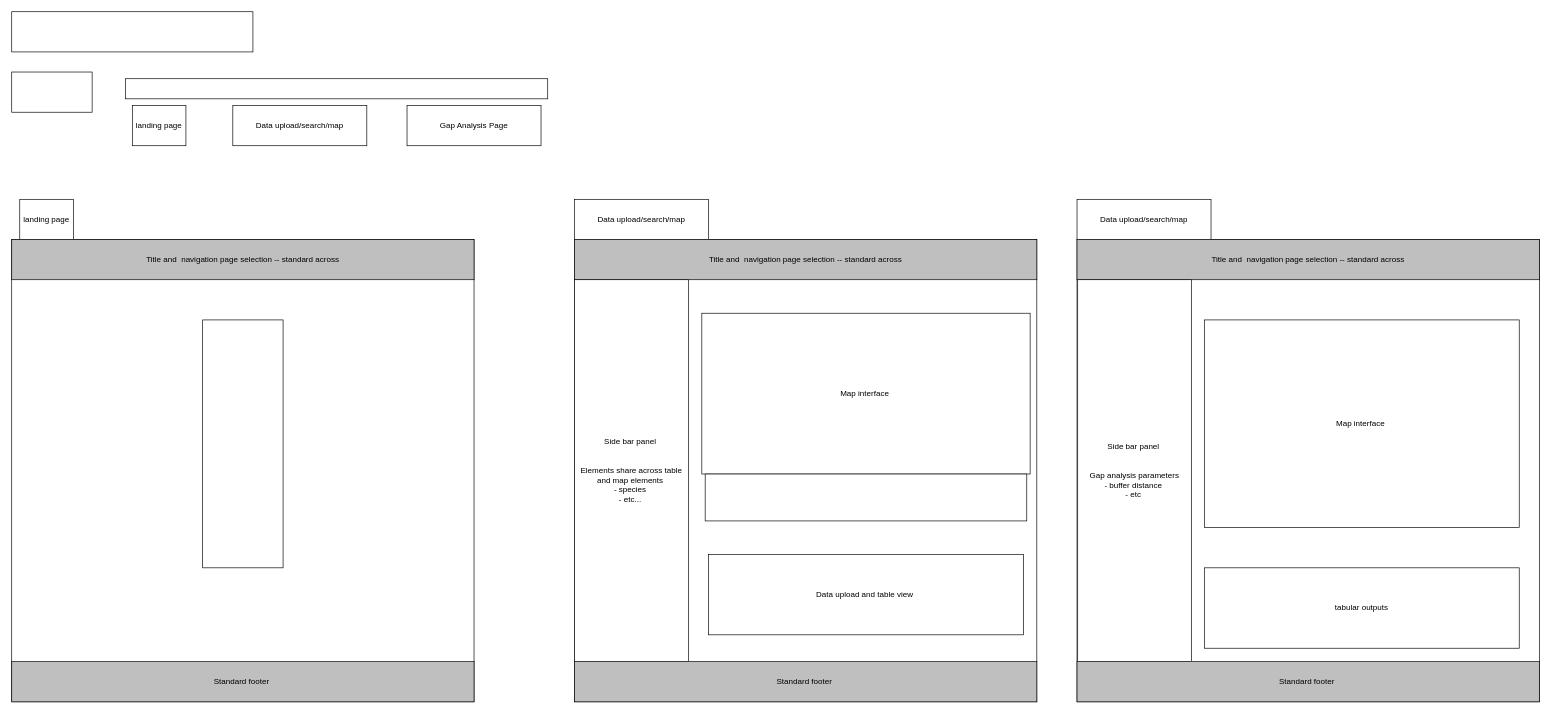
Image size: 1551x714. Some labels were removed from this diagram. The centre of each missing label's shape, as x and y in pixels:
"Gap Analysis and Metacollection Management Applicaiton" goes at (132,31).
"individual modules" goes at (336,88).
"Logos Supportive Text Images Etc" goes at (242,443).
"Map Sidebar - Flag observational data" goes at (866,497).
"Using the bslib dashboard framework" goes at (51,91).
